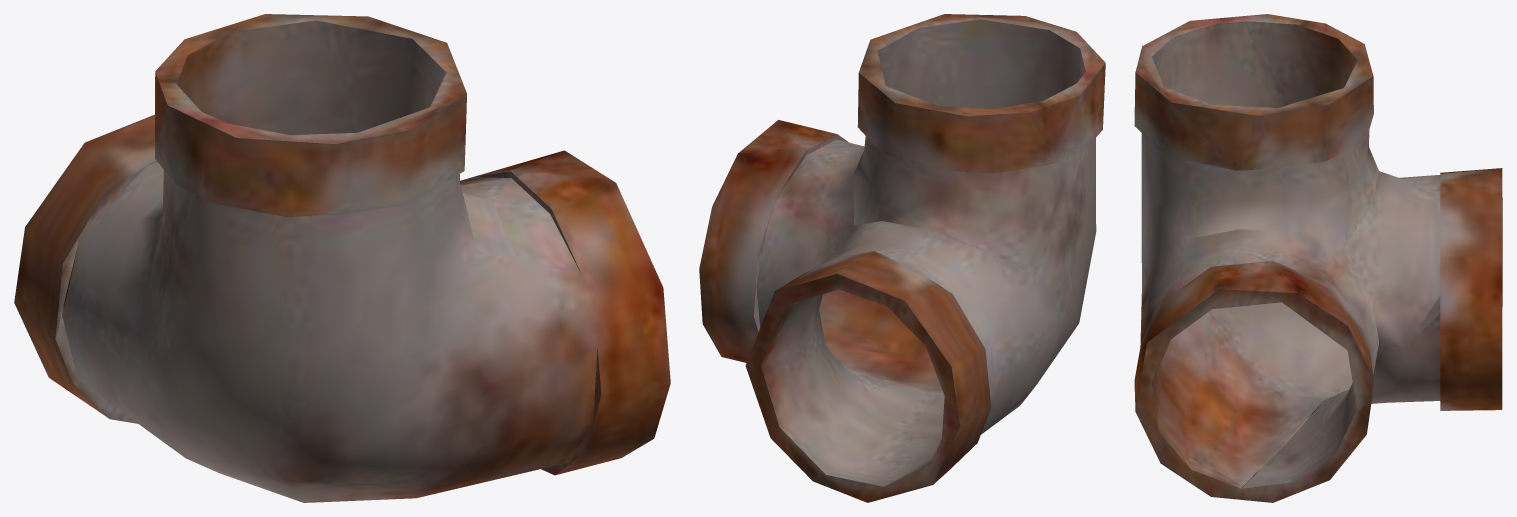
File: small_steel_pipe_18.glb
The picture shows the model from 3 angles, left to right: view 1: azimuth 30°, elevation 25°; view 2: azimuth 150°, elevation 25°; view 3: azimuth 270°, elevation 25°; orthographic projection. The views are drawn at different scales.
Visible parts, largest first — view 1: small_steel_pipe_18; view 2: small_steel_pipe_18; view 3: small_steel_pipe_18.
Part boxes in pixels (left/top/right/bottom): small_steel_pipe_18: left=14, top=14, right=670, bottom=502; small_steel_pipe_18: left=699, top=14, right=1105, bottom=502; small_steel_pipe_18: left=1134, top=14, right=1502, bottom=502.
Size of what is drawn, in the model's own units: 0.0327 by 0.0327 by 0.0326.
1 material, 1 textured.
